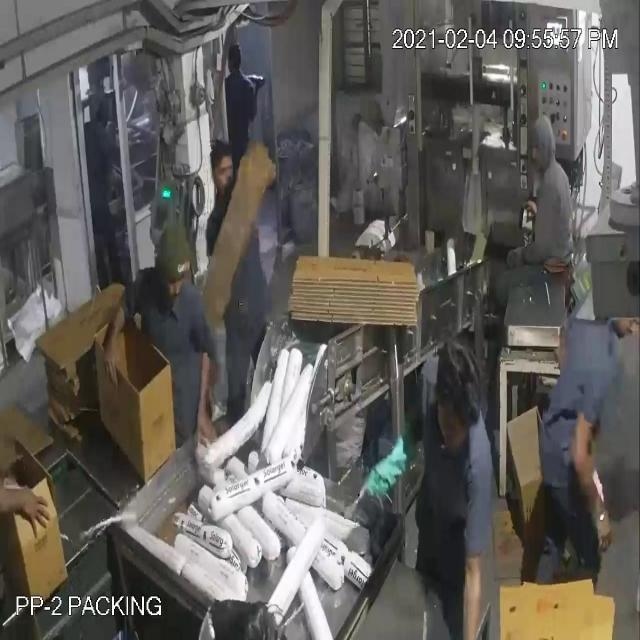No_Gloves: (31, 73, 594, 582)
